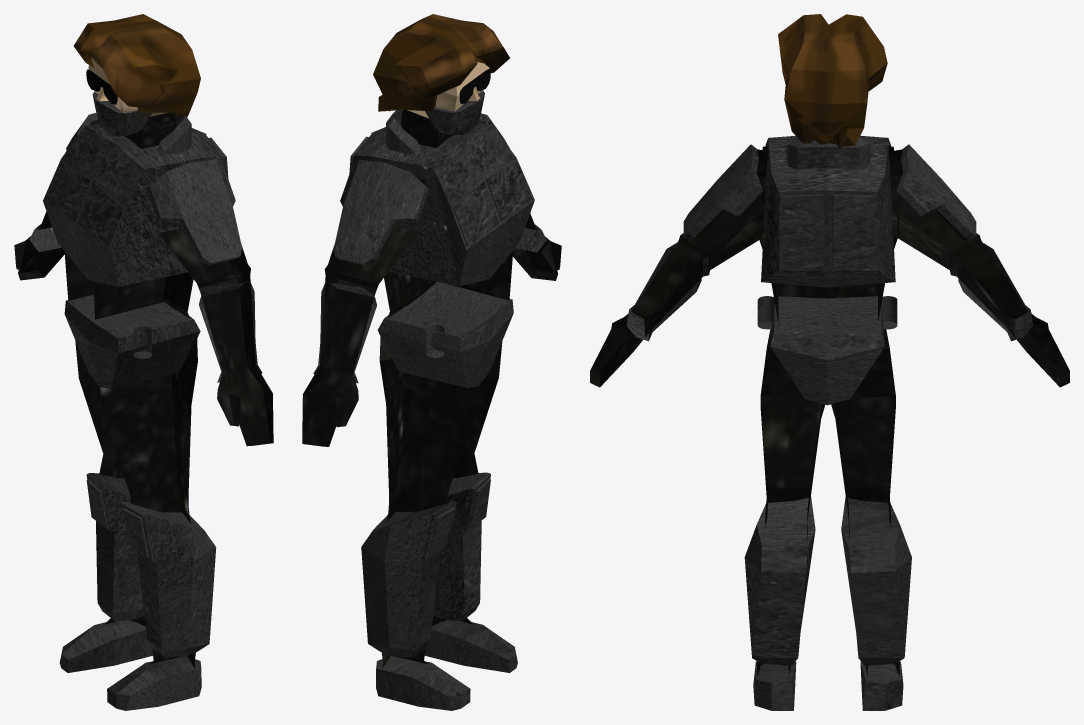
The model's file is Melee_Enemy_V1.fbx.
The picture shows the model from 3 angles, left to right: view 1: azimuth 30°, elevation 25°; view 2: azimuth 150°, elevation 25°; view 3: azimuth 270°, elevation 25°; orthographic projection.
Visible parts, largest first — view 1: Armor, Human Base, Hair, Glasses; view 2: Armor, Human Base, Hair, Glasses; view 3: Armor, Human Base, Hair.
Part boxes in pixels (x1,y1,x2,y2): Armor: [29, 91, 262, 710]; Human Base: [14, 58, 273, 668]; Hair: [73, 14, 200, 117]; Glasses: [86, 69, 117, 104]; Armor: [313, 91, 546, 710]; Human Base: [302, 62, 561, 668]; Hair: [373, 14, 509, 111]; Glasses: [459, 69, 490, 103]; Armor: [626, 135, 1033, 710]; Human Base: [590, 146, 1069, 679]; Hair: [778, 14, 887, 148].
Bounding box in the file's own units: 133 × 630 × 412.
Materials: 4 (4 with a texture image).
